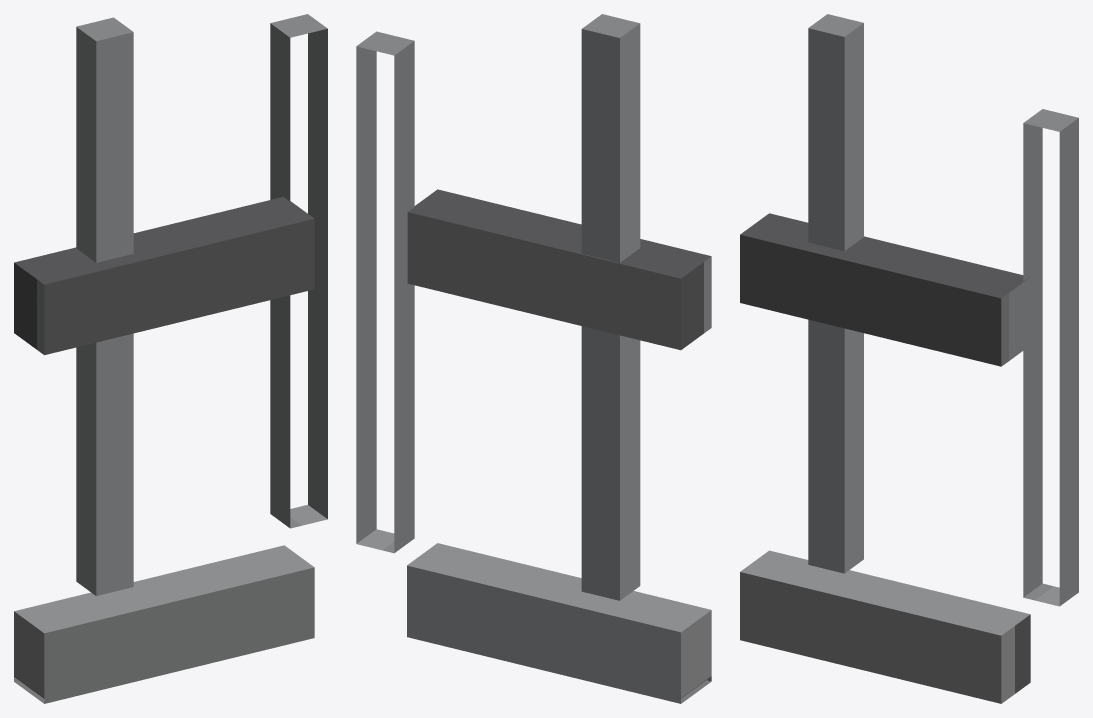
3 views of the same model, side by side, from view 1: azimuth 30°, elevation 25°; view 2: azimuth 150°, elevation 25°; view 3: azimuth 330°, elevation 25° (orthographic). The views are drawn at different scales.
Size of the model in its own units: 0.1879 by 0.3749 by 0.0462.
